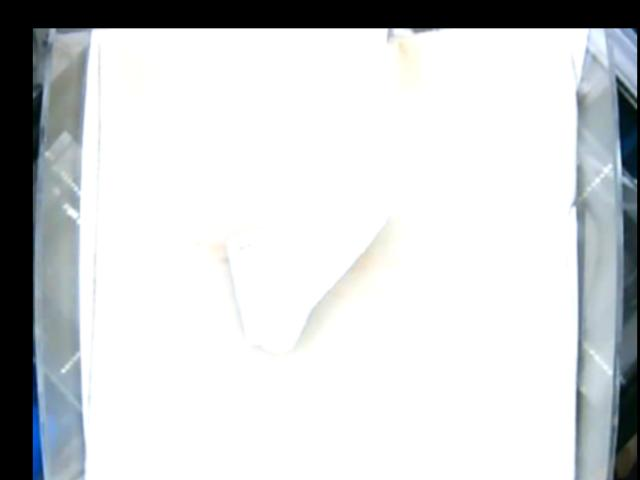China: (225, 202, 398, 355)
